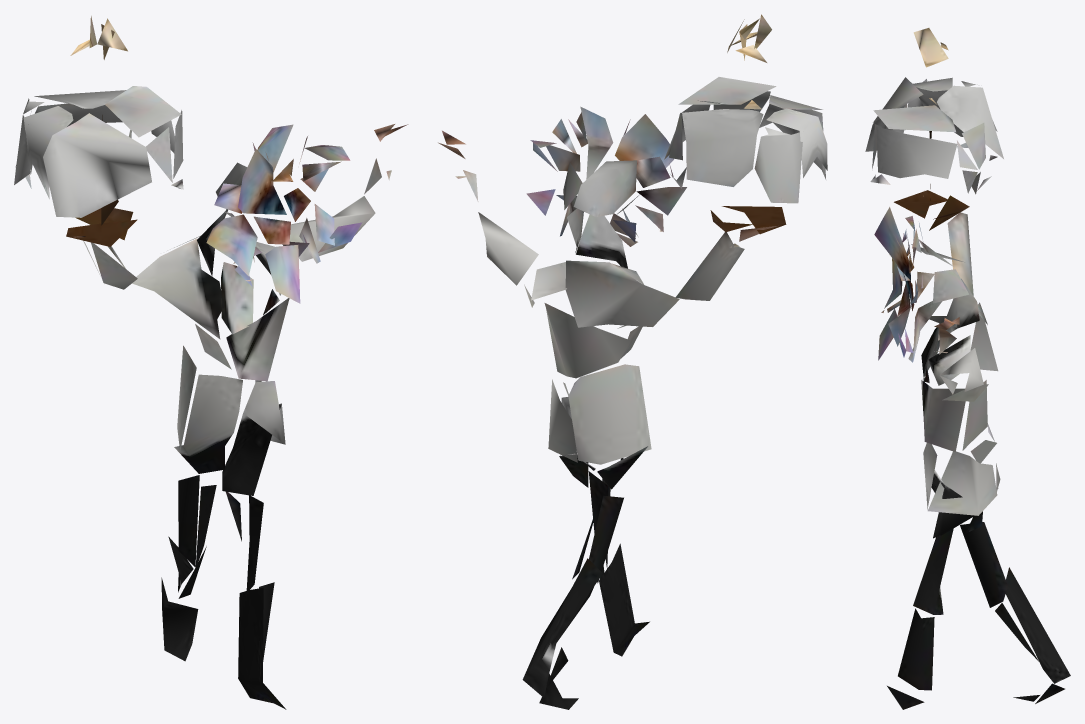
File: crowd_maitre_lite.glb
3 renders of one model, left to right at view 1: azimuth 30°, elevation 25°; view 2: azimuth 150°, elevation 25°; view 3: azimuth 270°, elevation 25°, orthographic. The views are drawn at different scales.
Parts seen in each view (by area): view 1: tripo_node_05c4fbca-02c4-4de5-b7a4-4f7adf9fef5e; view 2: tripo_node_05c4fbca-02c4-4de5-b7a4-4f7adf9fef5e; view 3: tripo_node_05c4fbca-02c4-4de5-b7a4-4f7adf9fef5e.
Boxes of the visible parts, x1=… form: tripo_node_05c4fbca-02c4-4de5-b7a4-4f7adf9fef5e: x1=14, y1=16, x2=408, y2=709; tripo_node_05c4fbca-02c4-4de5-b7a4-4f7adf9fef5e: x1=438, y1=14, x2=827, y2=709; tripo_node_05c4fbca-02c4-4de5-b7a4-4f7adf9fef5e: x1=865, y1=28, x2=1070, y2=709.
Bounding box in the file's own units: 1.05 × 1.88 × 0.5715.
Materials: 1 (1 with a texture image).
